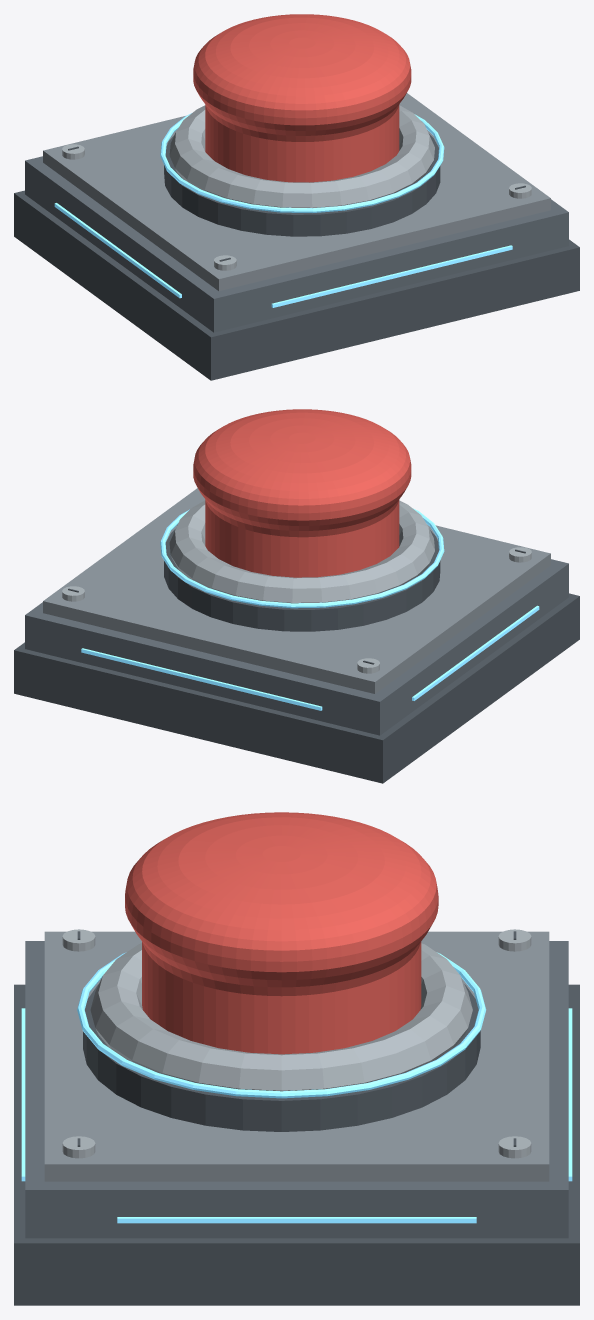
File: SpaceGamble_GuardedLaunchButton.fbx
The picture shows the model from 3 angles, top to bottom: view 1: azimuth 30°, elevation 25°; view 2: azimuth 150°, elevation 25°; view 3: azimuth 270°, elevation 25°; orthographic projection. The views are drawn at different scales.
Parts seen in each view (by area): view 1: RedButtonCap, BaseLower, TopDeck, BaseHousing, MetalButtonBezel, ButtonWell, BlueButtonHaloRing, BlueAccentFront, BlueAccentLeft; view 2: RedButtonCap, TopDeck, BaseLower, BaseHousing, MetalButtonBezel, ButtonWell, BlueButtonHaloRing, BlueAccentBack, BlueAccentLeft; view 3: RedButtonCap, TopDeck, BaseLower, BaseHousing, MetalButtonBezel, ButtonWell, BlueButtonHaloRing, BlueAccentRight, BlueAccentFront, BlueAccentBack, MountScrew_1, MountScrew_2 (+2 smaller).
Part boxes in pixels (x1=…): RedButtonCap: x1=193, y1=14, x2=411, y2=182; BaseLower: x1=14, y1=190, x2=579, y2=380; TopDeck: x1=43, y1=93, x2=550, y2=290; BaseHousing: x1=25, y1=156, x2=568, y2=332; MetalButtonBezel: x1=169, y1=105, x2=434, y2=207; ButtonWell: x1=164, y1=134, x2=440, y2=236; BlueButtonHaloRing: x1=160, y1=113, x2=444, y2=212; BlueAccentFront: x1=271, y1=245, x2=512, y2=307; BlueAccentLeft: x1=54, y1=203, x2=181, y2=298; RedButtonCap: x1=193, y1=409, x2=411, y2=577; TopDeck: x1=43, y1=488, x2=550, y2=693; BaseLower: x1=14, y1=593, x2=579, y2=783; BaseHousing: x1=25, y1=559, x2=568, y2=735; MetalButtonBezel: x1=169, y1=500, x2=434, y2=603; ButtonWell: x1=164, y1=529, x2=440, y2=631; BlueButtonHaloRing: x1=160, y1=508, x2=444, y2=608; BlueAccentBack: x1=81, y1=648, x2=322, y2=710; BlueAccentLeft: x1=412, y1=605, x2=539, y2=700; RedButtonCap: x1=125, y1=812, x2=438, y2=1054; TopDeck: x1=44, y1=931, x2=549, y2=1181; BaseLower: x1=14, y1=984, x2=579, y2=1305; BaseHousing: x1=25, y1=941, x2=568, y2=1238; MetalButtonBezel: x1=90, y1=943, x2=472, y2=1091; ButtonWell: x1=83, y1=984, x2=480, y2=1131; BlueButtonHaloRing: x1=77, y1=952, x2=486, y2=1098; BlueAccentRight: x1=117, y1=1217, x2=476, y2=1223; BlueAccentFront: x1=21, y1=1008, x2=25, y2=1181; BlueAccentBack: x1=568, y1=1008, x2=572, y2=1181; MountScrew_1: x1=498, y1=929, x2=531, y2=951; MountScrew_2: x1=62, y1=929, x2=95, y2=951.
Bounding box in the file's own units: 0.16 × 0.093 × 0.148.
